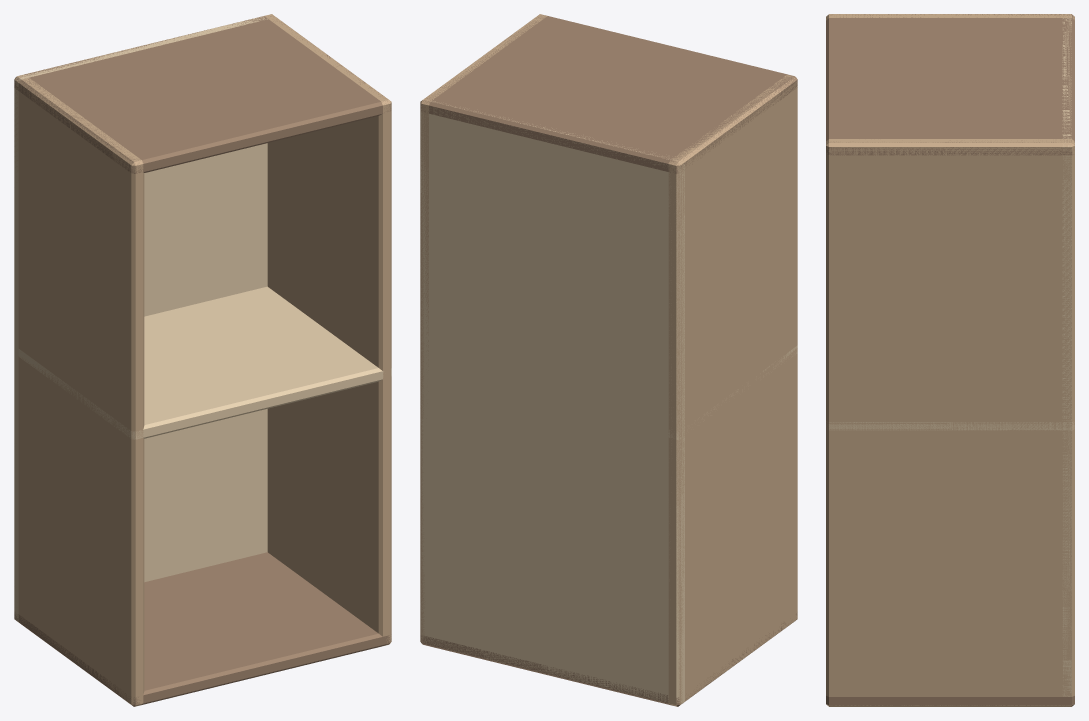
The picture shows the model from 3 angles, left to right: view 1: azimuth 30°, elevation 25°; view 2: azimuth 150°, elevation 25°; view 3: azimuth 270°, elevation 25°; orthographic projection. The views are drawn at different scales.
Parts seen in each view (by area): view 1: SpaceSaver_WallSys_Cube_1x2; view 2: SpaceSaver_WallSys_Cube_1x2; view 3: SpaceSaver_WallSys_Cube_1x2.
Part boxes in pixels (bbox=[...]): SpaceSaver_WallSys_Cube_1x2: bbox=[14, 14, 391, 706]; SpaceSaver_WallSys_Cube_1x2: bbox=[420, 14, 797, 706]; SpaceSaver_WallSys_Cube_1x2: bbox=[826, 14, 1074, 706].
Bounding box in the file's own units: 0.4 × 0.8 × 0.32.
